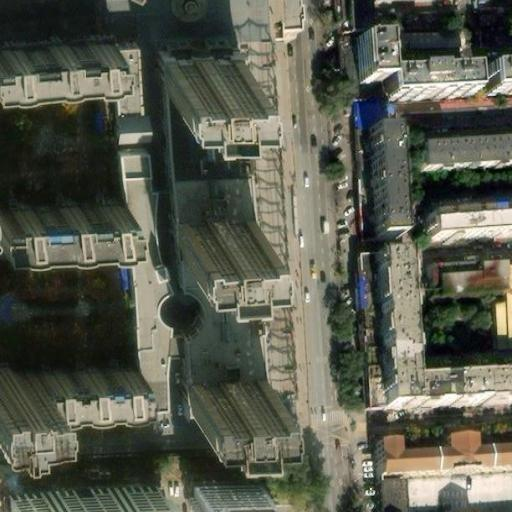building: (109, 40, 165, 410), (164, 94, 249, 230), (174, 252, 259, 387), (370, 261, 411, 413), (374, 433, 512, 477), (0, 202, 120, 241), (8, 482, 155, 512), (29, 365, 132, 405), (162, 59, 241, 104), (417, 133, 512, 169), (409, 378, 512, 411), (182, 377, 261, 420), (172, 220, 251, 263), (365, 131, 396, 234), (423, 205, 512, 239), (389, 56, 473, 90), (438, 268, 503, 309), (182, 478, 254, 512), (425, 263, 477, 310), (357, 38, 391, 92), (348, 94, 391, 130), (0, 371, 31, 414), (481, 55, 512, 87), (495, 319, 512, 359), (501, 278, 512, 331)
